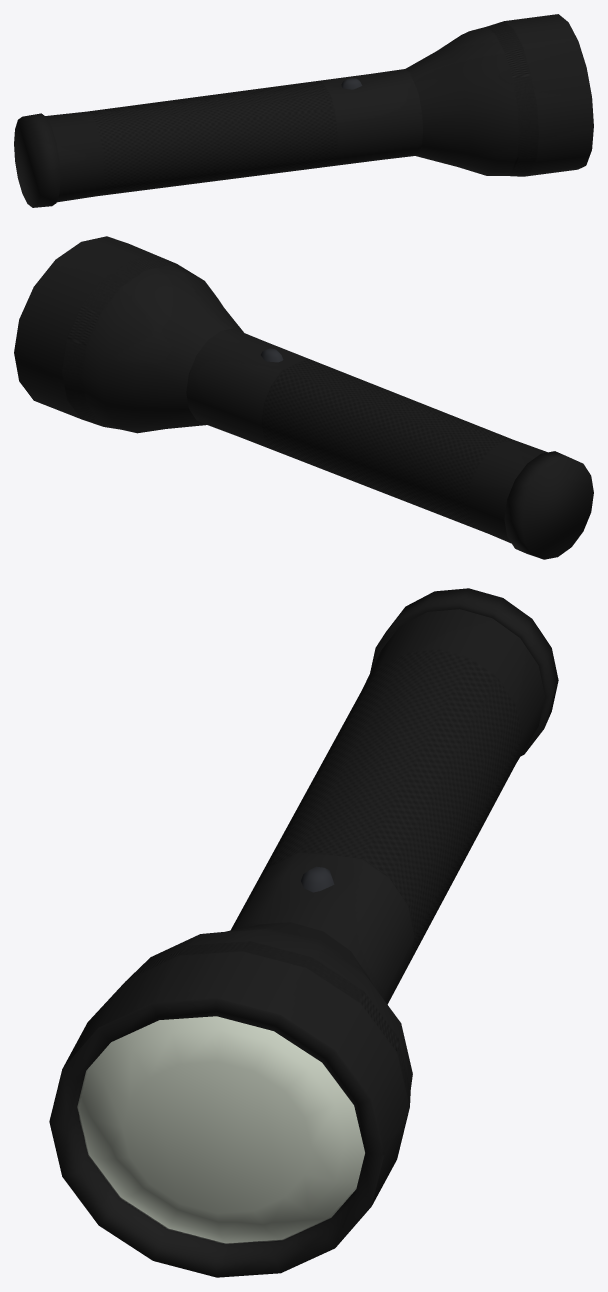
File: flashlight.obj
3 renders of one model, top to bottom at view 1: azimuth 30°, elevation 25°; view 2: azimuth 150°, elevation 25°; view 3: azimuth 270°, elevation 25°, orthographic. The views are drawn at different scales.
Visible parts, largest first — view 1: Flashlight-V2.001; view 2: Flashlight-V2.001; view 3: Flashlight-V2.001.
Part boxes in pixels (x1,y1,x2,y2): Flashlight-V2.001: [14, 14, 593, 207]; Flashlight-V2.001: [14, 236, 593, 559]; Flashlight-V2.001: [49, 588, 558, 1277].
Size of the model in its own units: 1 by 0.2651 by 0.4379.
Materials: 1 (1 with a texture image).
